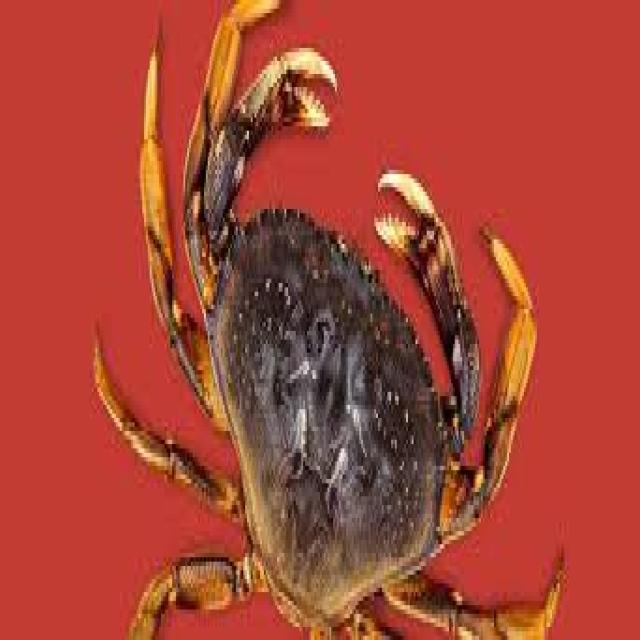crab: (208, 171, 460, 614)
